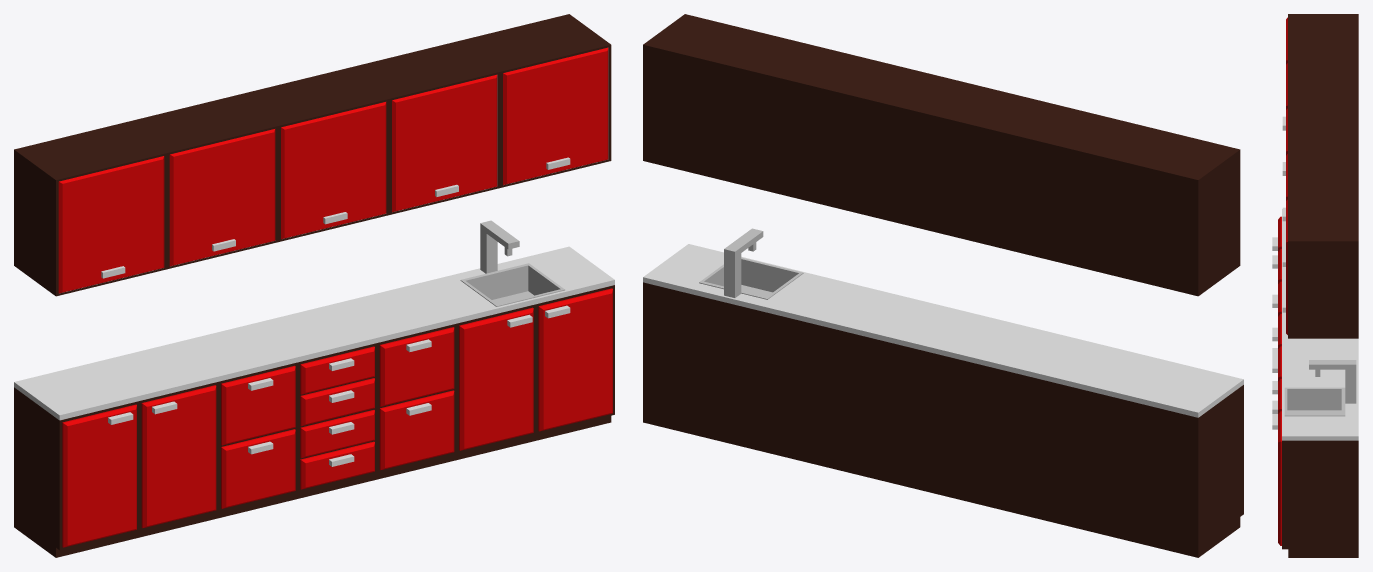
The model's file is cuisineComplete1.fbx.
3 renders of one model, left to right at view 1: azimuth 30°, elevation 25°; view 2: azimuth 150°, elevation 25°; view 3: azimuth 270°, elevation 25°, orthographic. The views are drawn at different scales.
Visible parts, largest first — view 1: Cube.003; view 2: Cube.003; view 3: Cube.003.
Part boxes in pixels (left/top/right/bottom): Cube.003: left=14, top=14, right=614, bottom=557; Cube.003: left=643, top=14, right=1243, bottom=557; Cube.003: left=1272, top=14, right=1358, bottom=557.
Bounding box in the file's own units: 1000 × 650 × 160.
